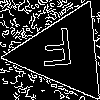F: (38, 27, 76, 76)
